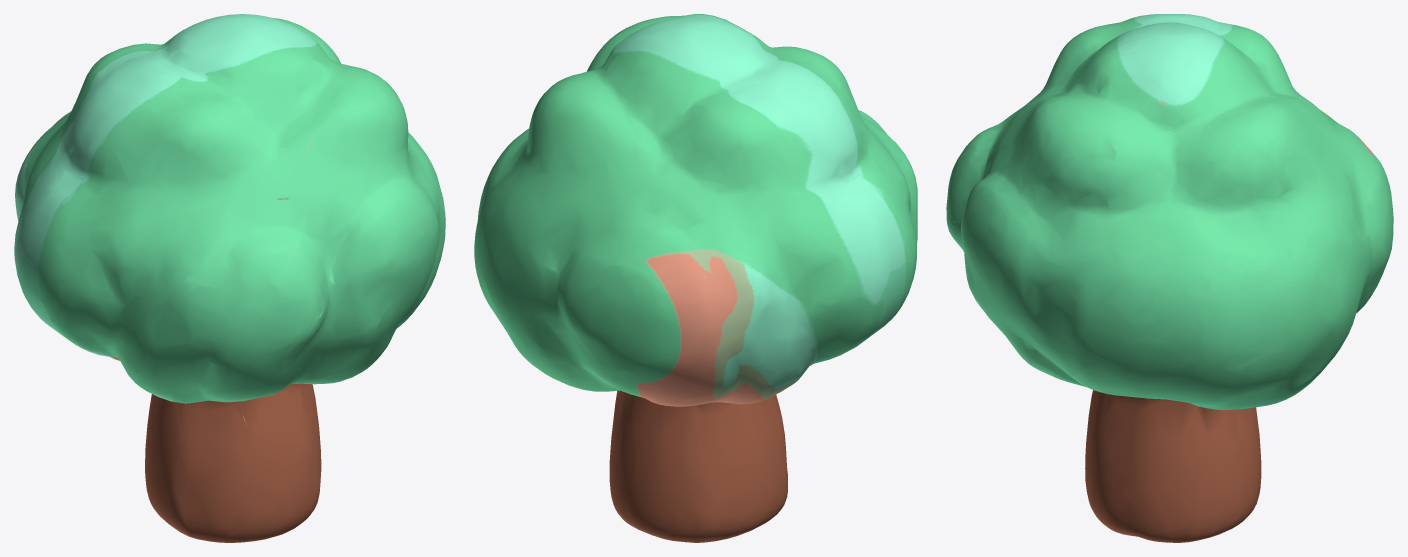
File: tree_fat.glb
3 renders of one model, left to right at view 1: azimuth 30°, elevation 25°; view 2: azimuth 150°, elevation 25°; view 3: azimuth 270°, elevation 25°, orthographic.
Parts seen in each view (by area): view 1: Mesh_0; view 2: Mesh_0; view 3: Mesh_0.
Part boxes in pixels (x1,y1,x2,y2): Mesh_0: (14, 14, 445, 542); Mesh_0: (474, 14, 917, 542); Mesh_0: (946, 14, 1393, 542).
Bounding box in the file's own units: 1.61 × 1.9 × 1.59.
Materials: 1 (1 with a texture image).
